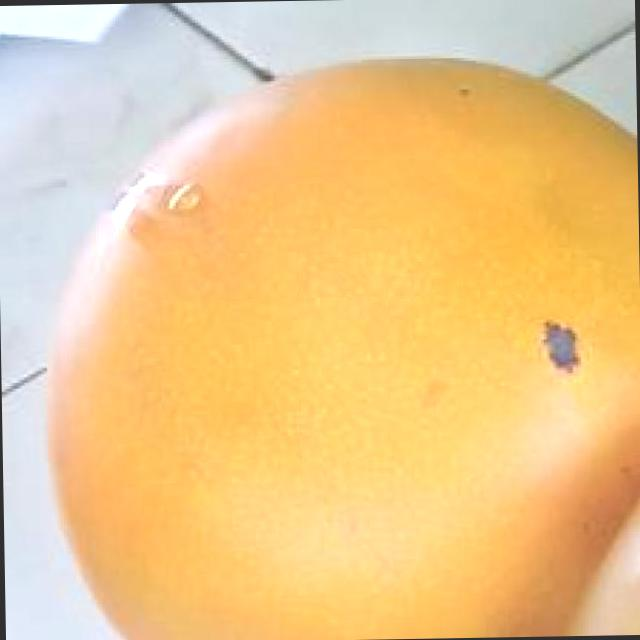Mango: (23, 50, 635, 639)
